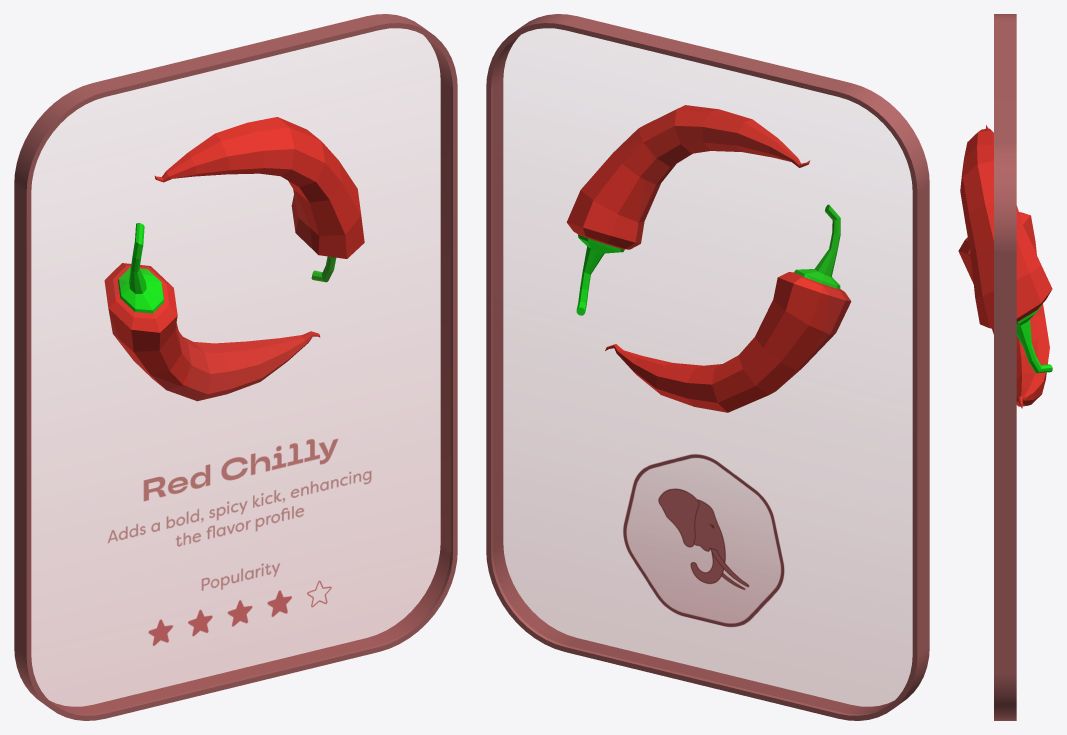
The model's file is chilli.glb.
The picture shows the model from 3 angles, left to right: view 1: azimuth 30°, elevation 25°; view 2: azimuth 150°, elevation 25°; view 3: azimuth 270°, elevation 25°; orthographic projection. The views are drawn at different scales.
Parts seen in each view (by area): view 1: Bhai_Card.tex.014, Bhai_Card.out.014, Chili_Pepper_01.001; view 2: Bhai_Card.tex.014, Bhai_Card.out.014, Chili_Pepper_01.001; view 3: Bhai_Card.out.014, Chili_Pepper_01.001.
Part boxes in pixels (bbox=[...]): Bhai_Card.tex.014: bbox=[31, 167, 450, 713]; Bhai_Card.out.014: bbox=[14, 14, 457, 720]; Chili_Pepper_01.001: bbox=[104, 117, 364, 401]; Bhai_Card.tex.014: bbox=[493, 167, 912, 713]; Bhai_Card.out.014: bbox=[486, 14, 929, 720]; Chili_Pepper_01.001: bbox=[566, 105, 851, 412]; Bhai_Card.out.014: bbox=[994, 14, 1016, 720]; Chili_Pepper_01.001: bbox=[958, 125, 1052, 408].
Bounding box in the file's own units: 1.81 × 2.51 × 0.3761.
7 materials, 2 textured.
